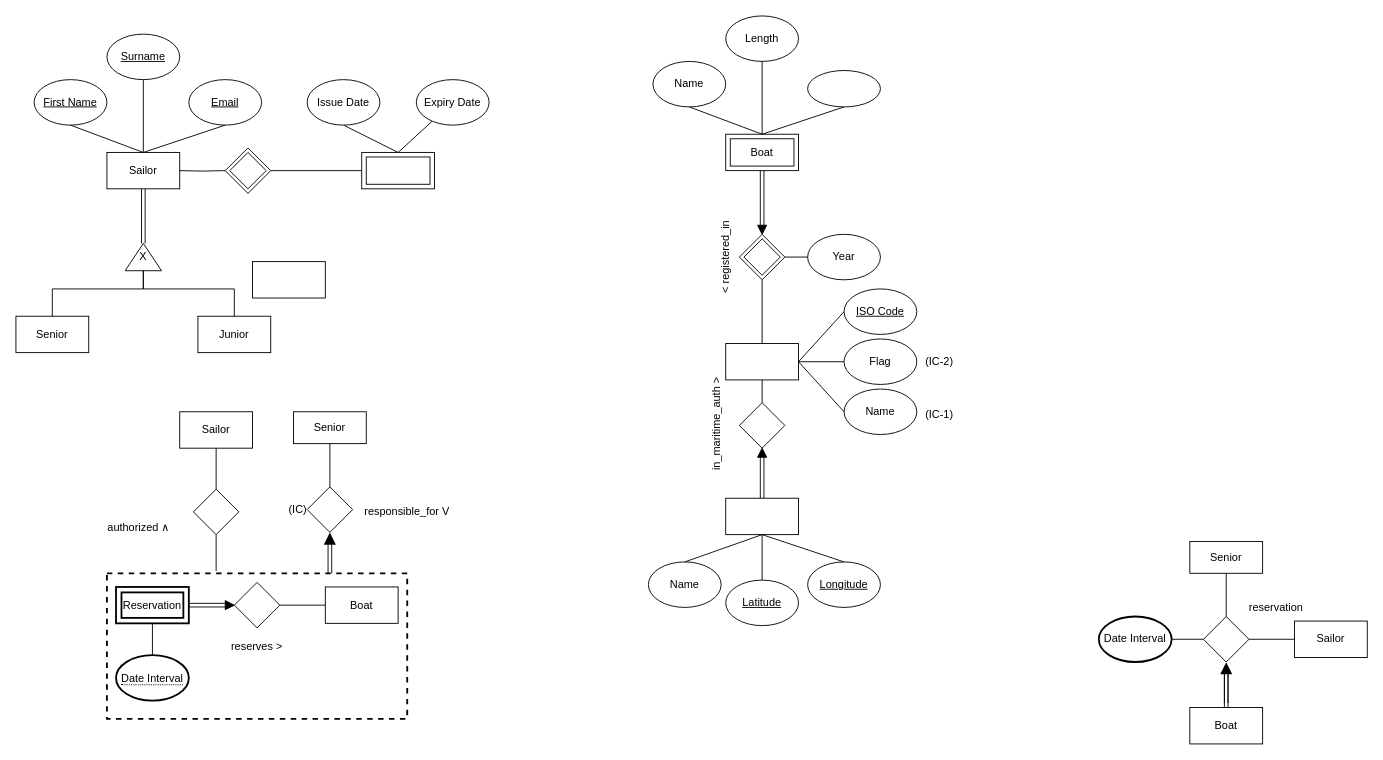
Image size: 1383x760. Some labels were removed from this diagram. The centre of each missing label's shape, as x and y in pixels:
"Certification" belongs at (x=398, y=170).
"Country" belongs at (x=762, y=361).
"ID" belongs at (x=843, y=88).
"Location" belongs at (x=762, y=516).
"Trip" belongs at (x=288, y=279).
